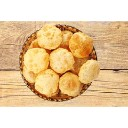poori: (75, 56, 100, 85), (37, 70, 61, 98), (26, 48, 52, 73), (70, 31, 93, 58), (49, 49, 75, 72), (37, 25, 63, 48), (60, 71, 82, 97)
